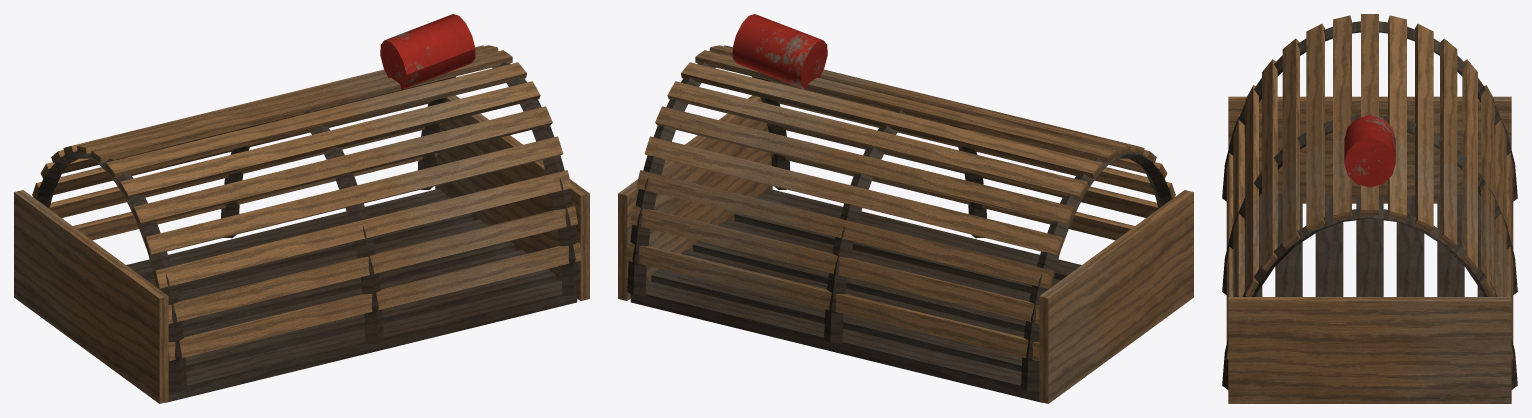
Rendered from lobster_trap.glb.
3 views of the same model, side by side, from view 1: azimuth 30°, elevation 25°; view 2: azimuth 150°, elevation 25°; view 3: azimuth 270°, elevation 25° (orthographic). The views are drawn at different scales.
Parts seen in each view (by area): view 1: lobster_trap; view 2: lobster_trap; view 3: lobster_trap.
Boxes of the visible parts, x1,y1,x2,y2 form: lobster_trap: (14,14,589,403); lobster_trap: (618,14,1193,403); lobster_trap: (1222,14,1517,403).
Size of the model in its own units: 0.94 by 0.5171 by 0.5739.
3 materials, 3 textured.
